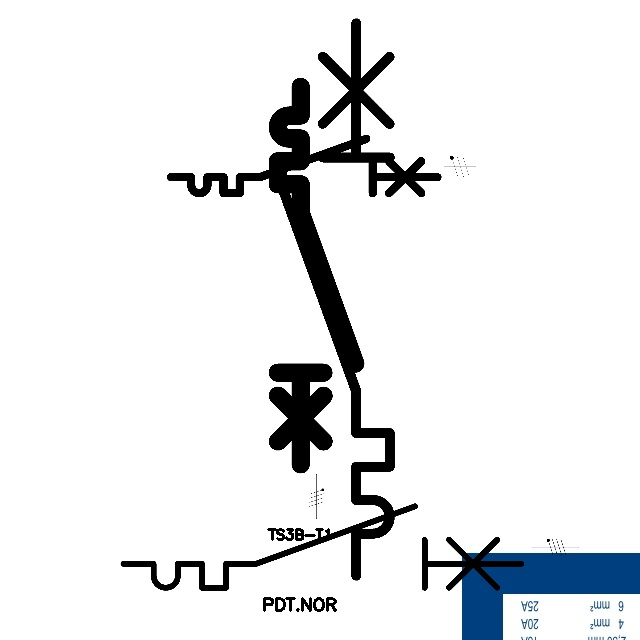interruptor_termomagnetico: (262, 9, 404, 590), (113, 496, 531, 598), (268, 77, 365, 474), (164, 132, 444, 200)
